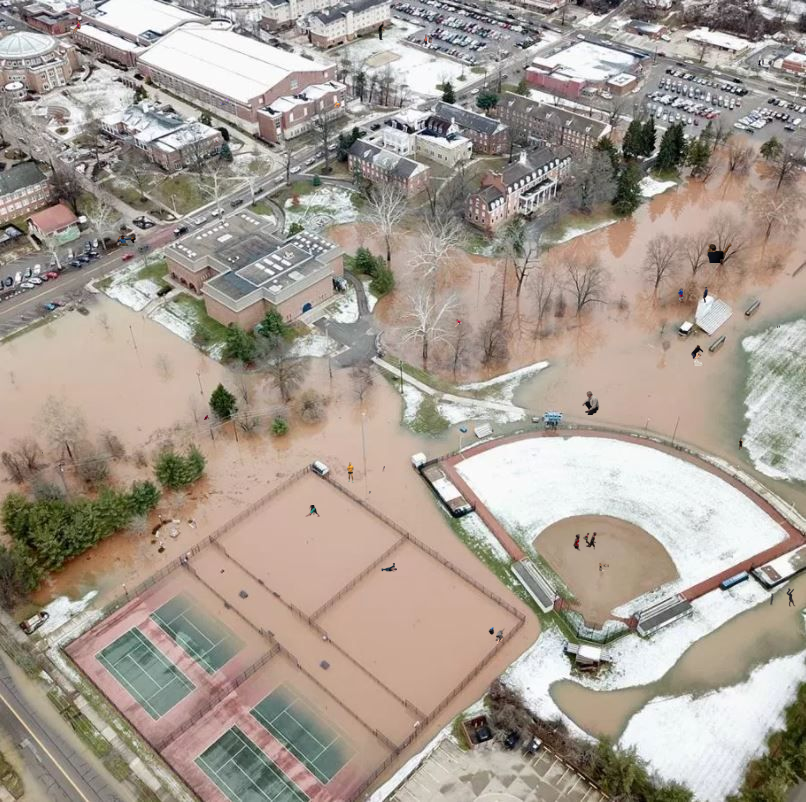Human: (707, 243, 732, 263), (770, 588, 796, 607), (678, 287, 708, 303), (573, 532, 597, 552), (582, 391, 600, 415), (689, 345, 704, 366), (488, 627, 505, 645), (117, 235, 136, 246), (305, 505, 320, 517), (378, 24, 389, 40), (347, 462, 354, 483), (381, 563, 397, 572), (71, 20, 81, 34), (424, 34, 433, 45), (218, 98, 231, 105), (599, 563, 609, 571), (454, 319, 462, 327), (738, 438, 743, 450), (334, 100, 340, 109), (758, 60, 764, 68), (204, 415, 209, 420), (382, 466, 385, 472), (368, 491, 372, 494), (777, 325, 780, 328), (215, 141, 218, 143), (323, 130, 325, 133), (42, 452, 43, 455)
